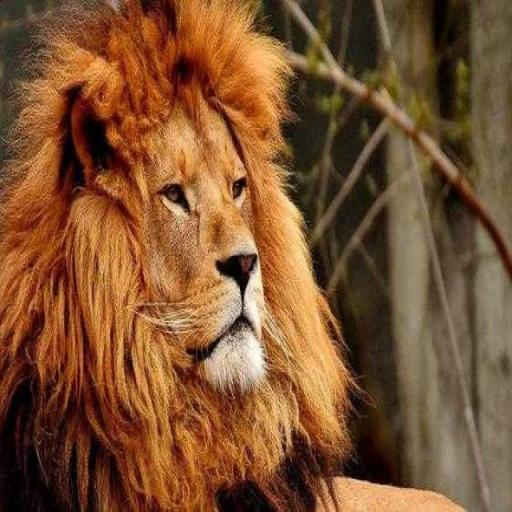Lion: (0, 0, 468, 509)
